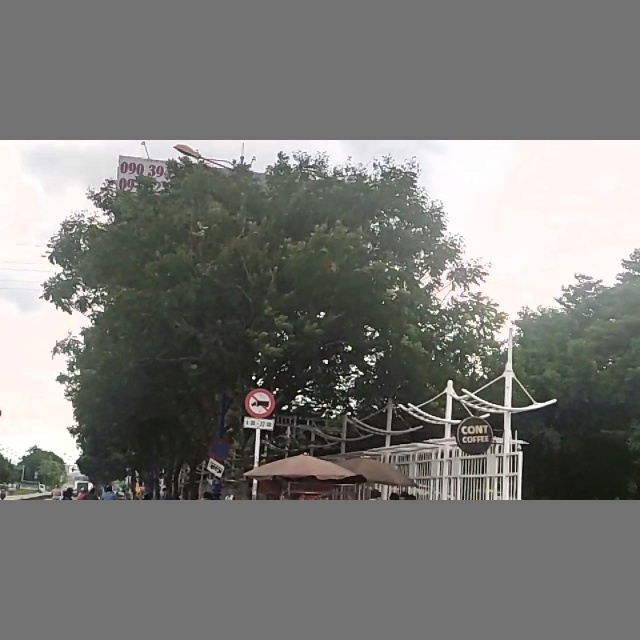B.8a: (246, 389, 275, 429)
